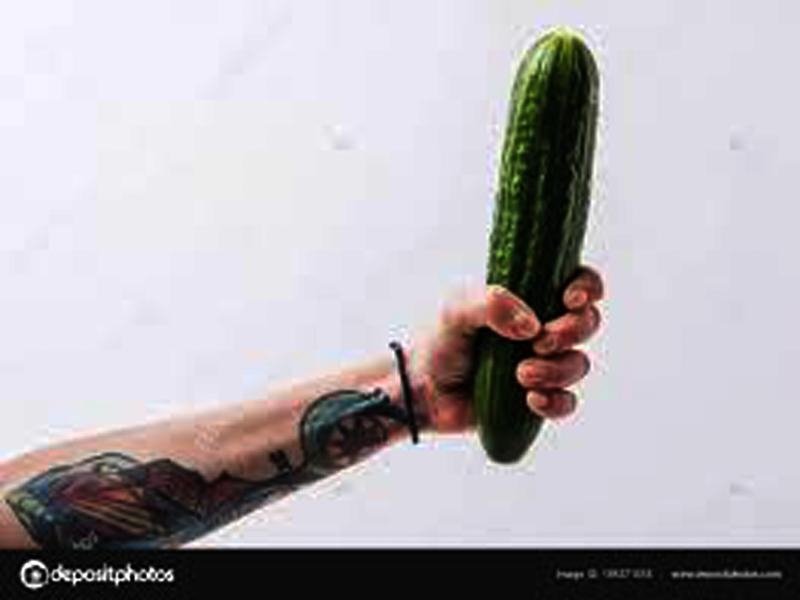Cucumber: (475, 28, 599, 459)
